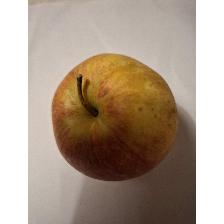Apfel: (47, 51, 181, 187)
